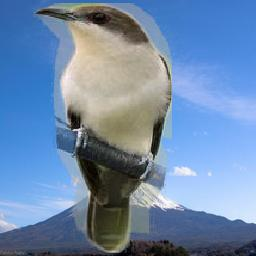Cuckoo: (34, 3, 173, 253)
